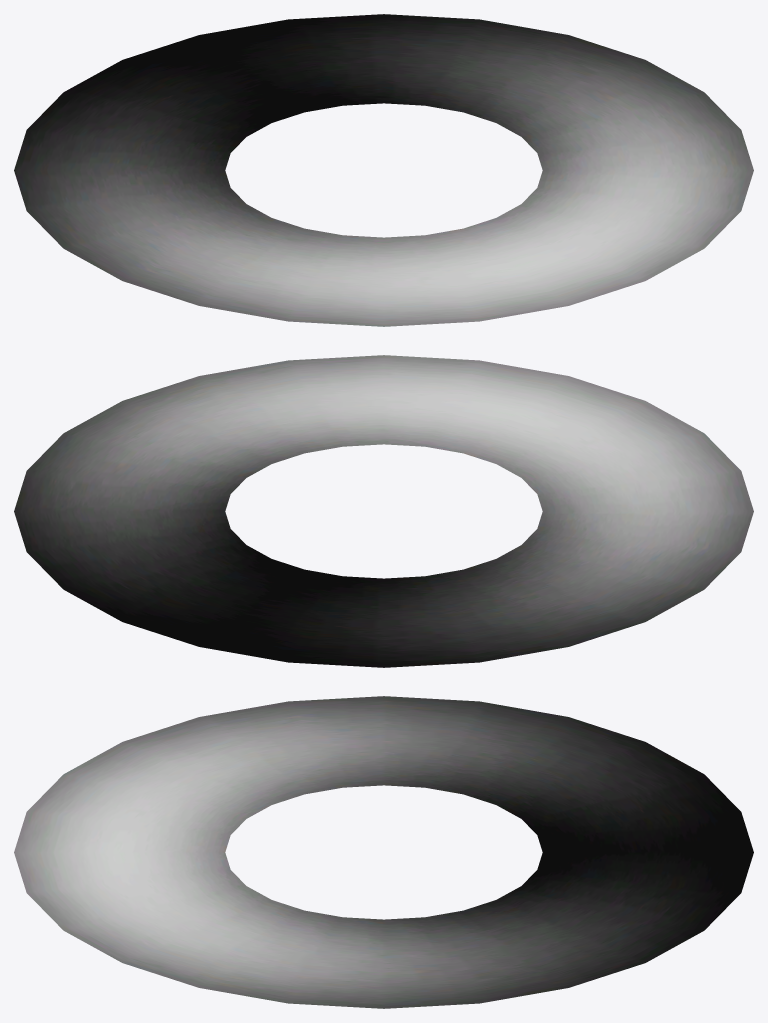
File: vfx_kurp_1046.dae
3 views of the same model, one above another, from view 1: azimuth 30°, elevation 25°; view 2: azimuth 150°, elevation 25°; view 3: azimuth 270°, elevation 25° (orthographic).
Parts seen in each view (by area): view 1: vfx_kurp_1046; view 2: vfx_kurp_1046; view 3: vfx_kurp_1046.
Part boxes in pixels (x1,y1,x2,y2): vfx_kurp_1046: [14, 14, 753, 326]; vfx_kurp_1046: [14, 355, 753, 667]; vfx_kurp_1046: [14, 696, 753, 1008].
Bounding box in the file's own units: 11.86 × 11.86 × 8.41e-07.
Materials: 1 (1 with a texture image).
